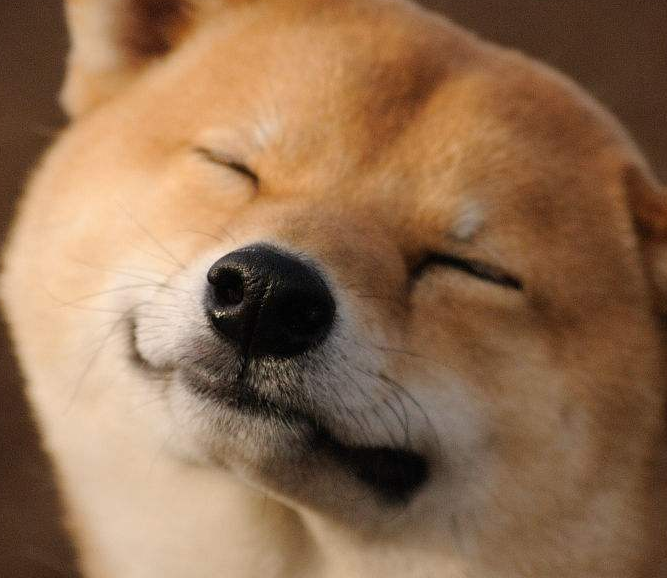nose: (194, 233, 346, 366)
